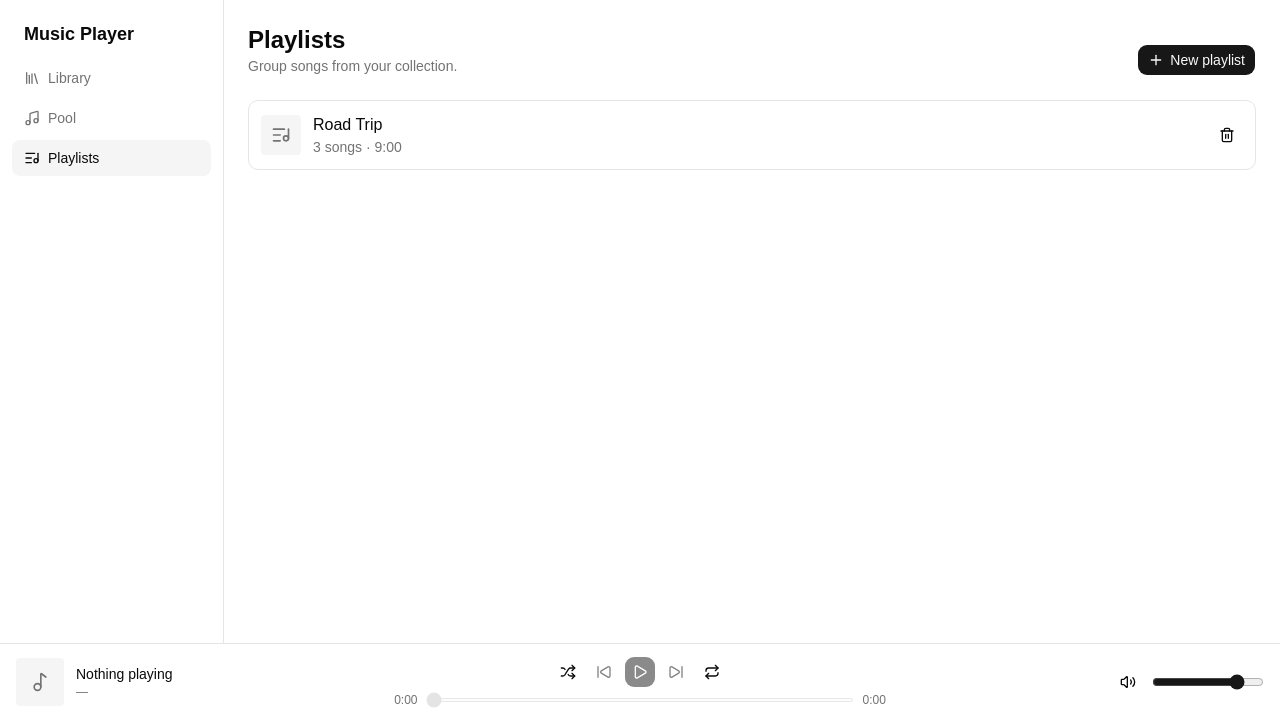
Test: Playlists list › F-PY-04 deleting needs confirmation; cancelling keeps the playlist
Check: the text "Road Trip" is shown, box [313,116,382,133]
What coordinates should you click on to do the following:
click the button named "Delete Road Trip"
I would click on:
 (1227, 135)
Its box is [1211,119,1243,151].
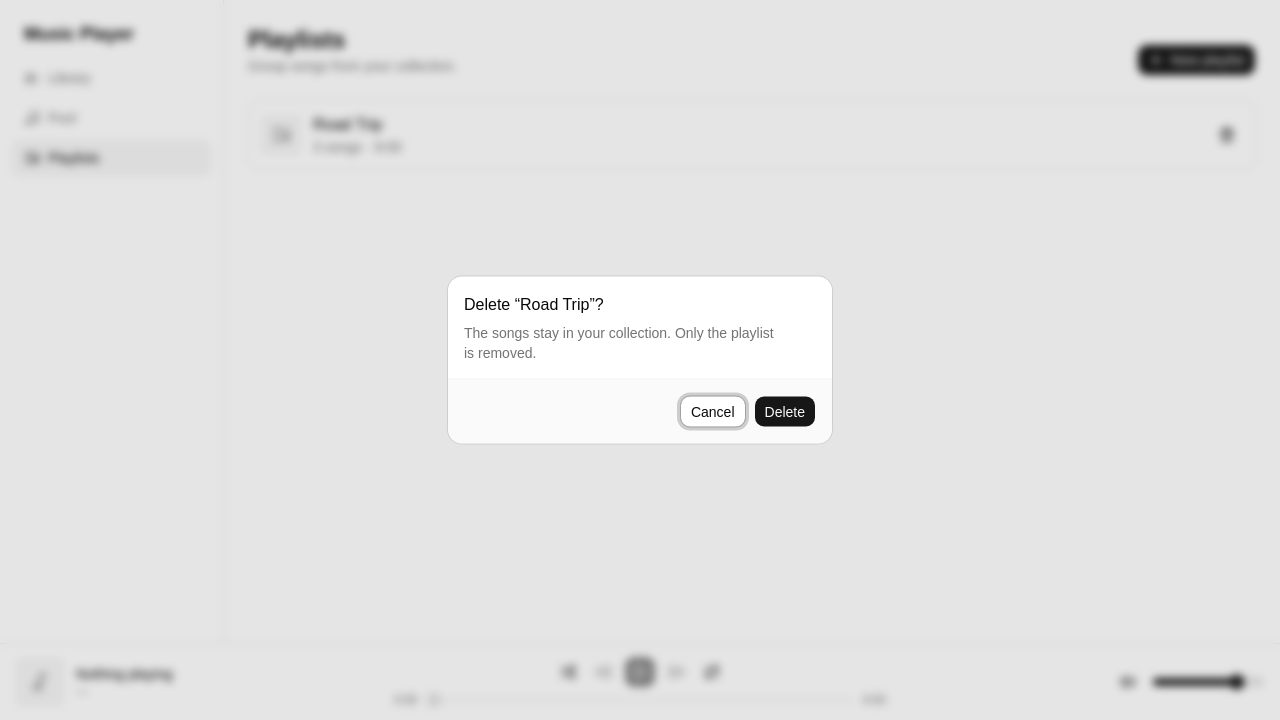
What coordinates should you click on to do the following:
click the button "Cancel"
I would click on:
 (713, 412)
Its box is [680,396,746,428].
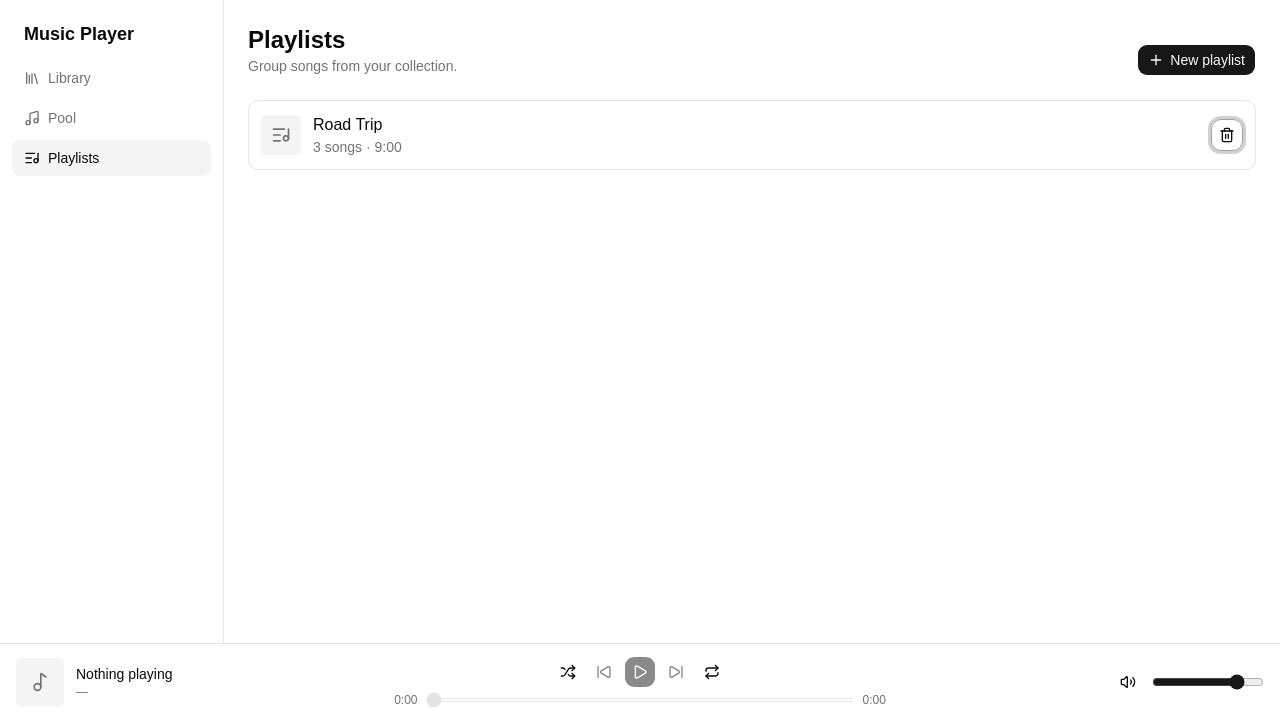
What coordinates should you click on to do the following:
click the button named "Delete Road Trip"
I would click on:
 (1227, 135)
Its box is [1211,119,1243,151].
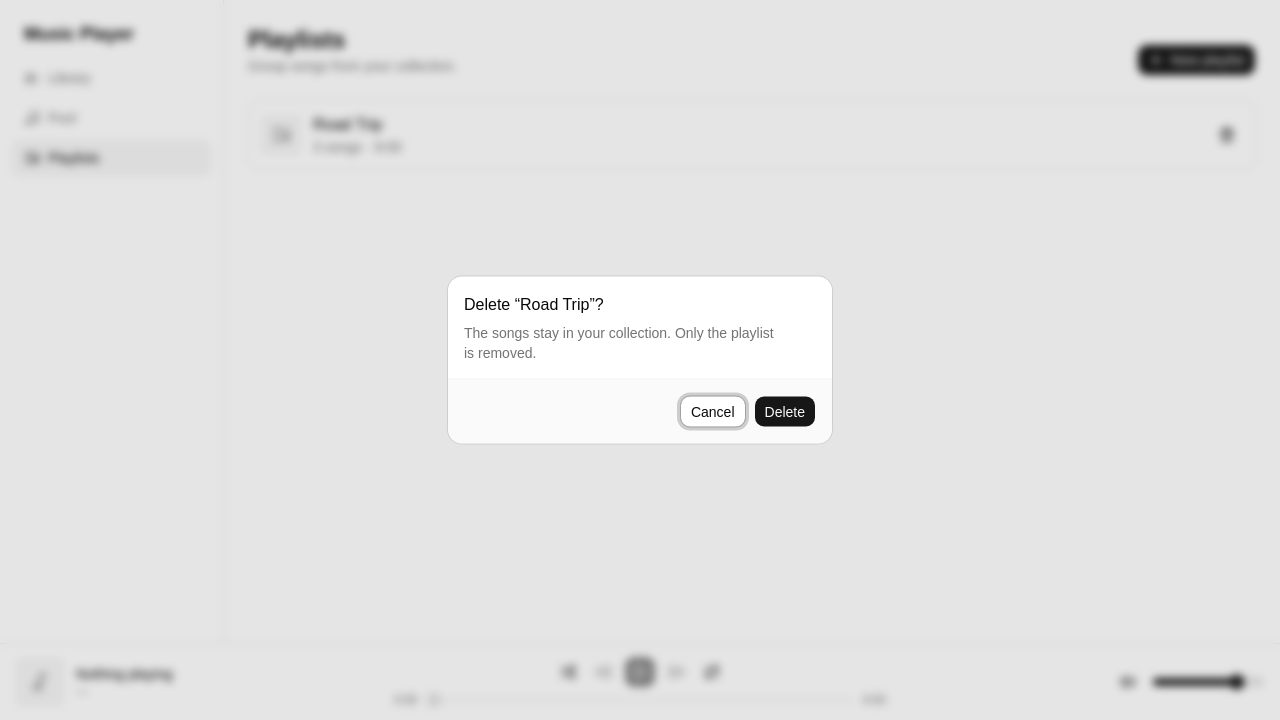
What coordinates should you click on to do the following:
click the button "Delete"
I would click on:
 (785, 412)
Its box is [754,396,816,428].
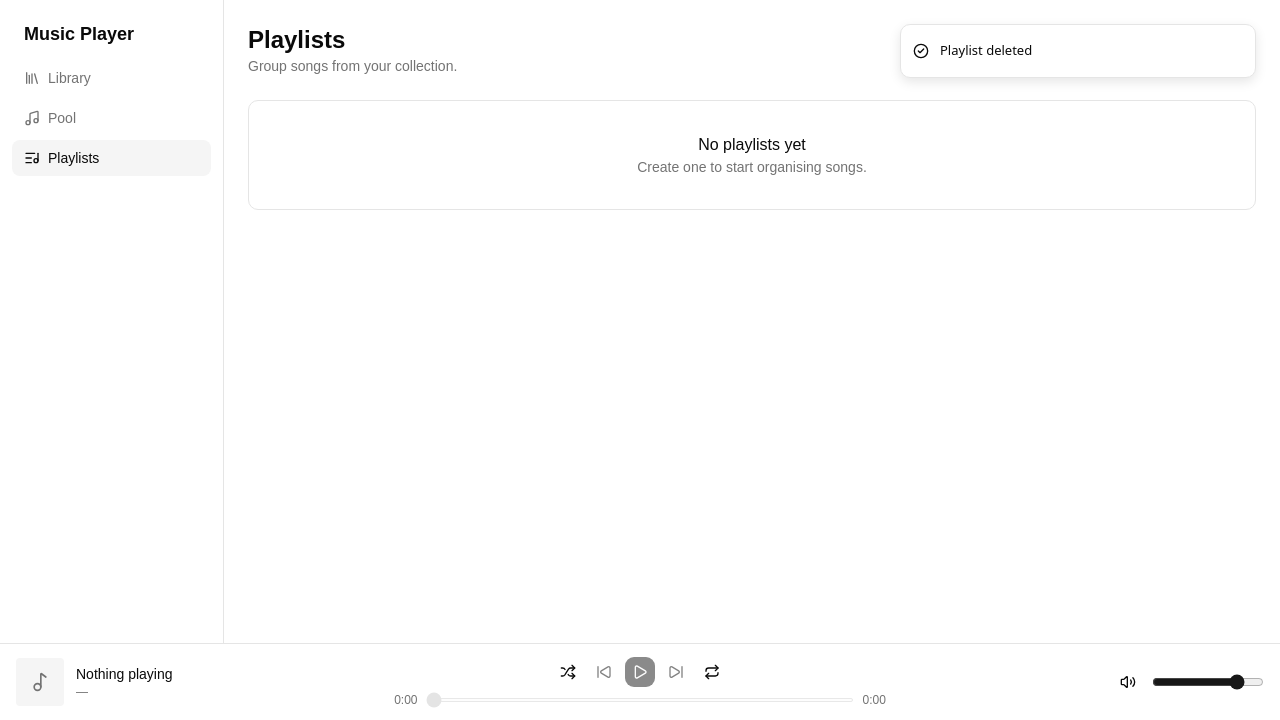
Check: the text "No playlists yet" is shown, box [698,136,806,153]
